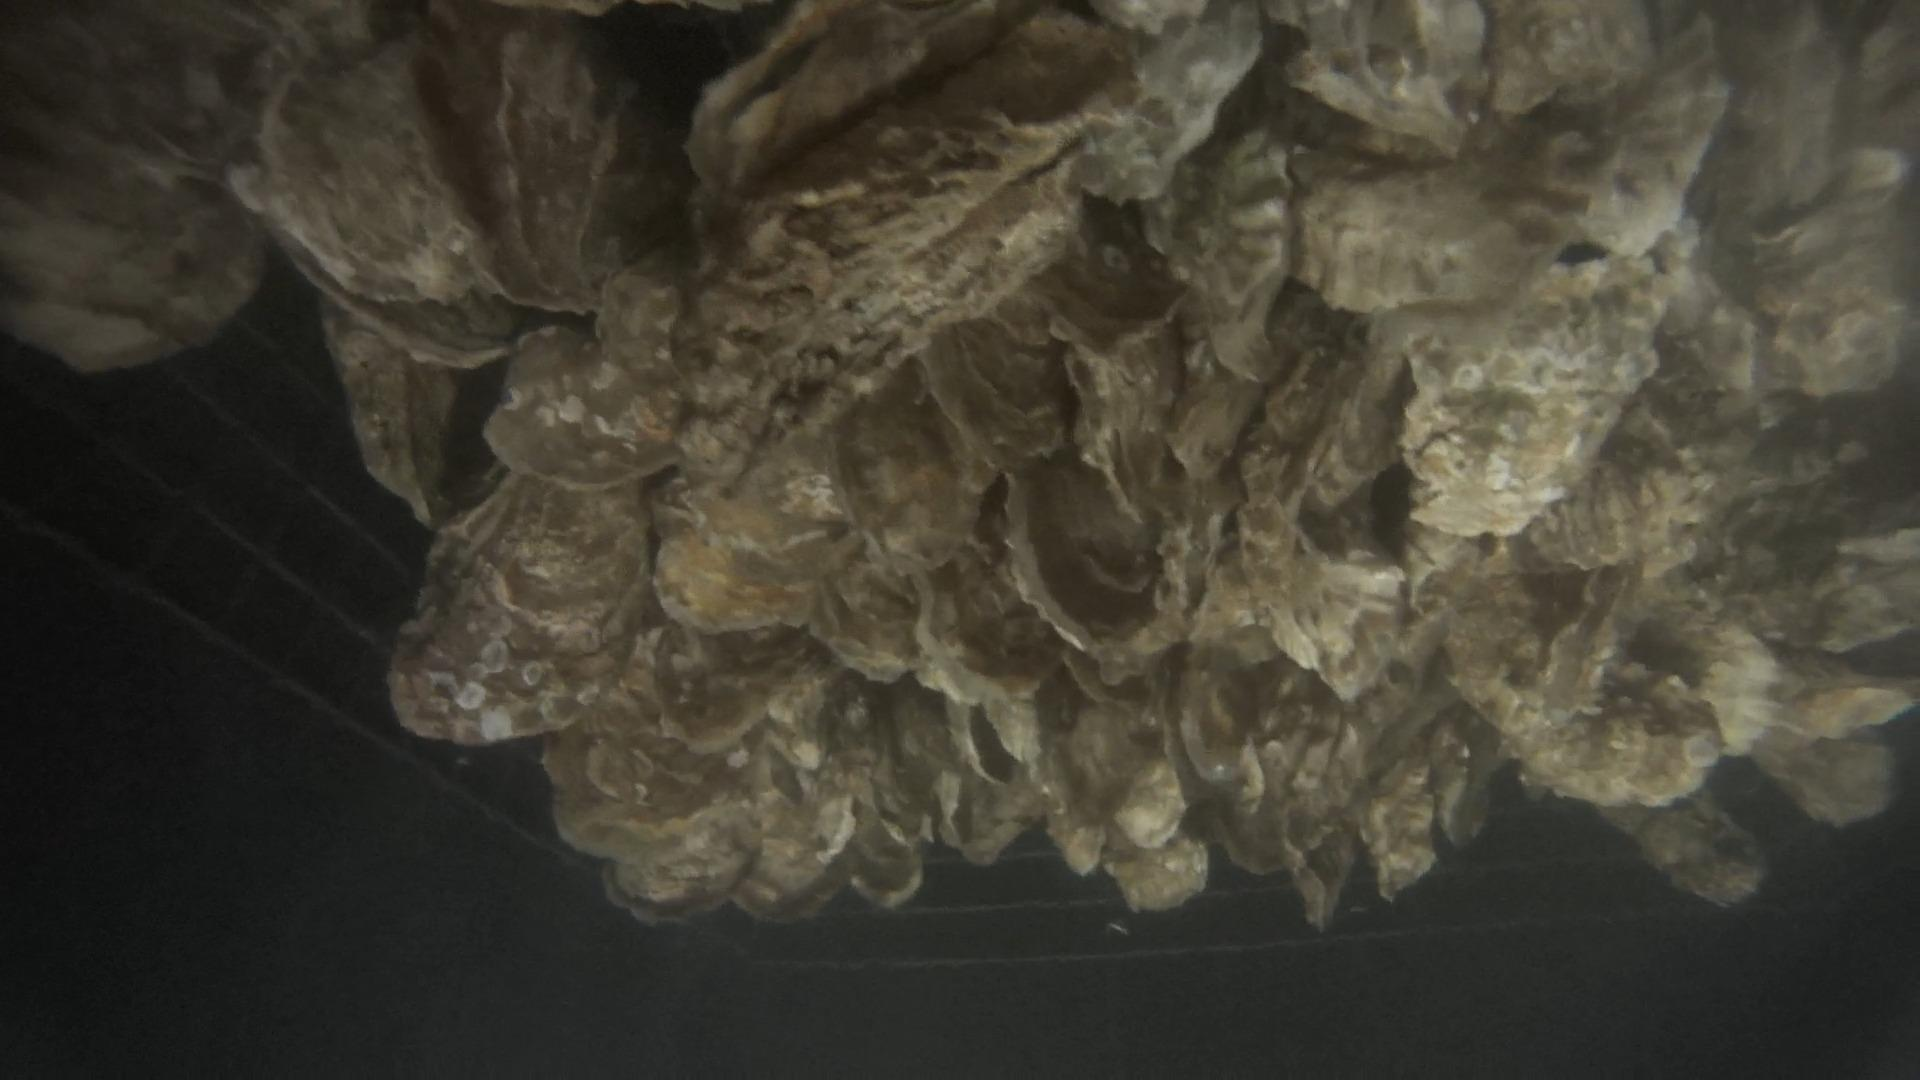3: (278, 0, 618, 386)
Oyster- Indeterminate: (1402, 256, 1663, 538), (386, 475, 651, 744), (483, 251, 704, 477)
Oyster-Closed: (338, 328, 451, 510)
